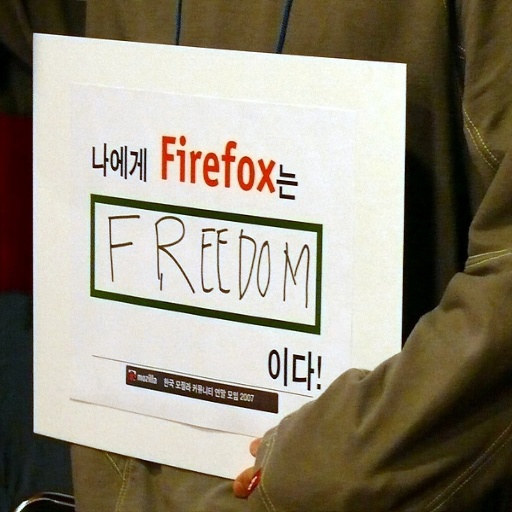hand: (231, 436, 263, 500)
